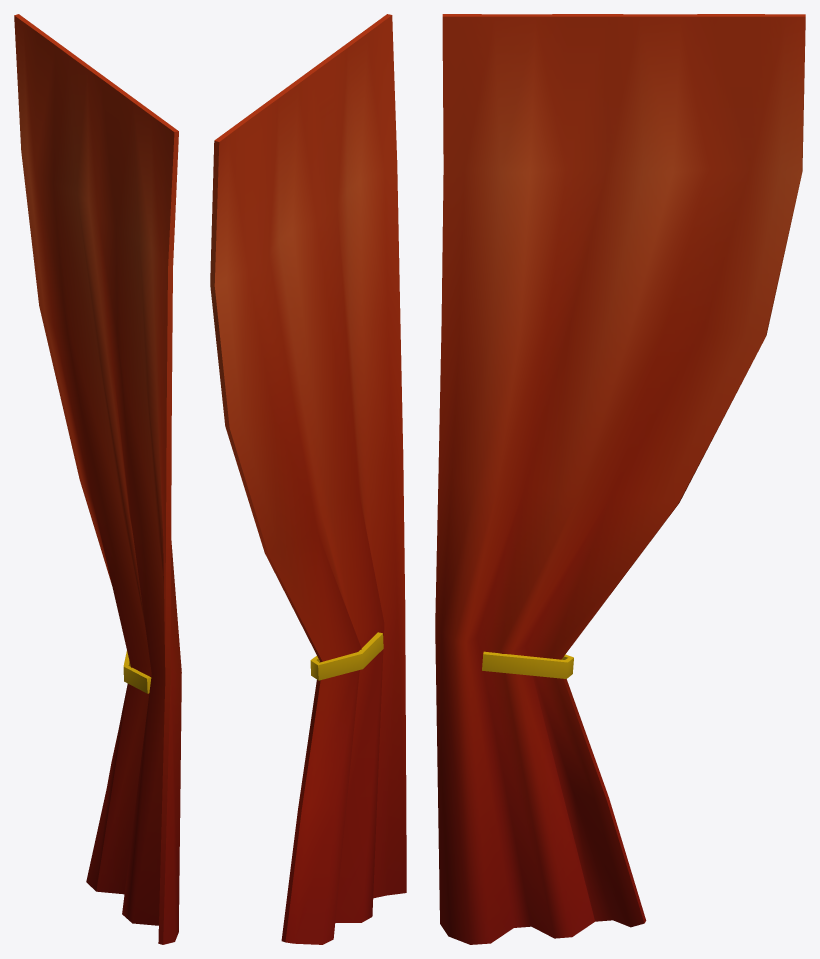
File: TSP_Curtain_01D.R.fbx
3 views of the same model, side by side, from view 1: azimuth 30°, elevation 25°; view 2: azimuth 150°, elevation 25°; view 3: azimuth 270°, elevation 25° (orthographic). The views are drawn at different scales.
Parts seen in each view (by area): view 1: TSP_Curtain_01D.R; view 2: TSP_Curtain_01D.R; view 3: TSP_Curtain_01D.R.
Boxes of the visible parts, <box> form: TSP_Curtain_01D.R: <box>14,14,181,944</box>; TSP_Curtain_01D.R: <box>210,14,406,944</box>; TSP_Curtain_01D.R: <box>435,14,805,944</box>.
Bounding box in the file's own units: 0.1128 × 2.49 × 0.9088.
